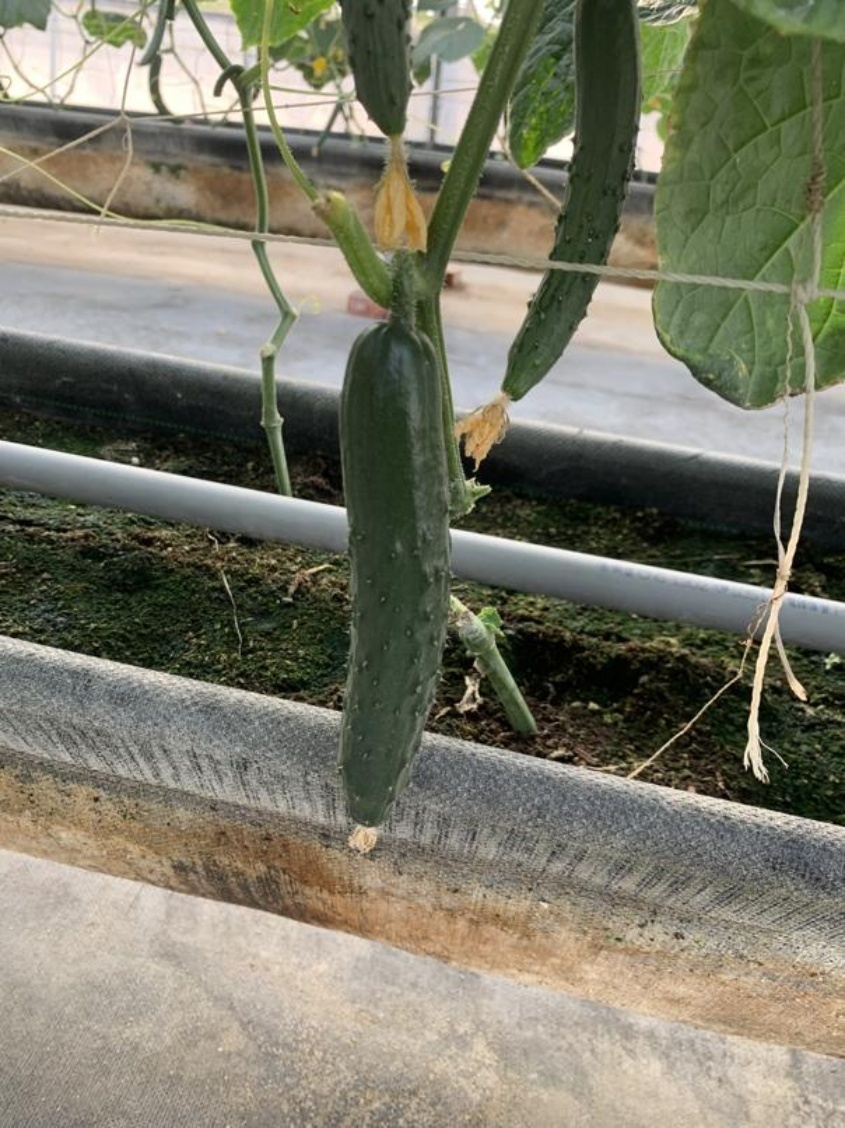mature: (324, 320, 458, 846)
